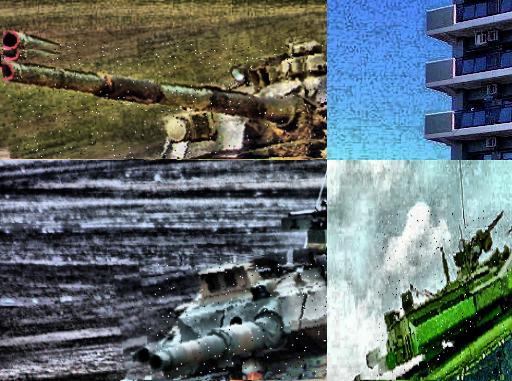tanks: (3, 41, 328, 160), (377, 213, 512, 380), (148, 256, 328, 381), (283, 204, 328, 269)
